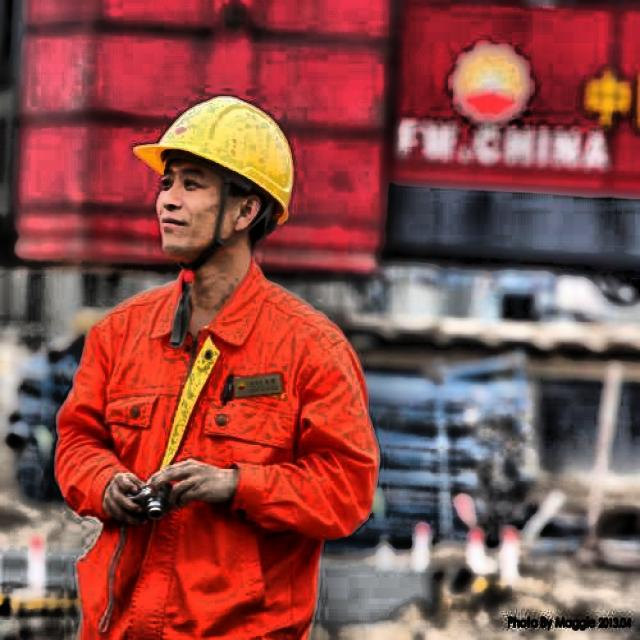helmet: (128, 72, 311, 283)
